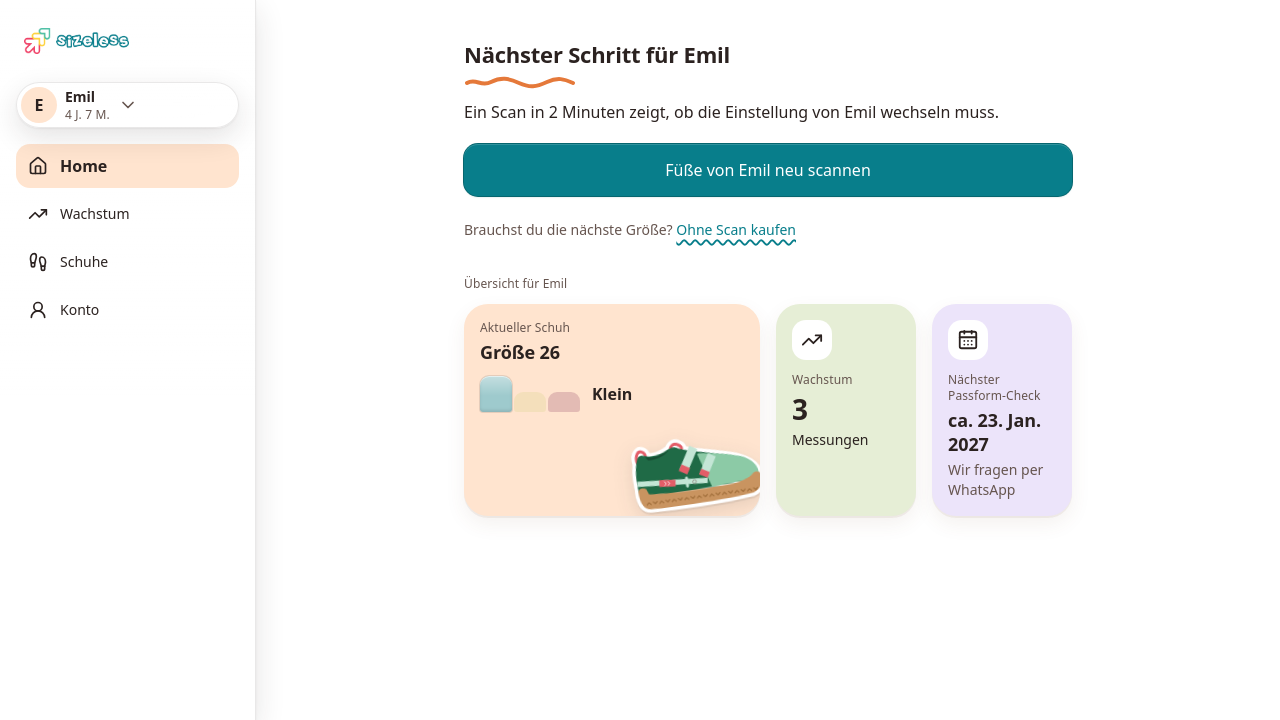
Test case: app frame › closes the kid switcher with Escape without changing the child
The width and height of the screenshot is (1280, 720).
Click the button with aria-label "Emil ausgewählt" at (128, 105), box [16,82,239,128]
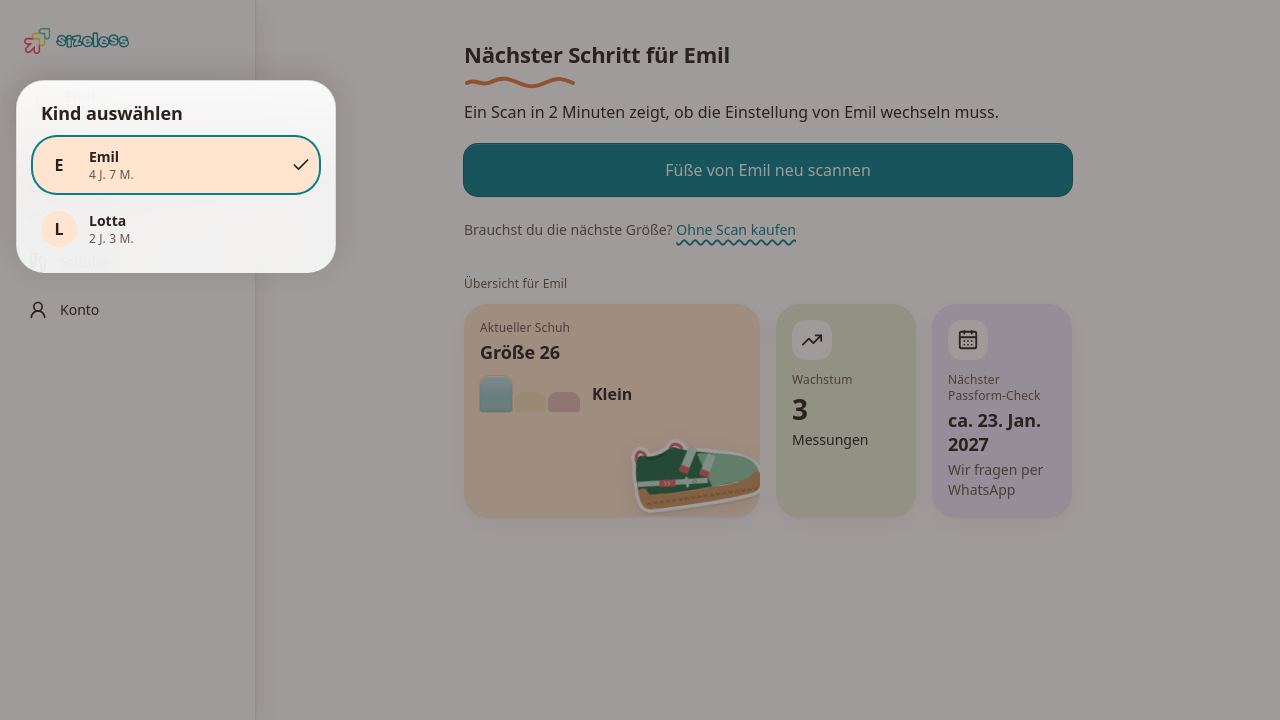
Press Escape
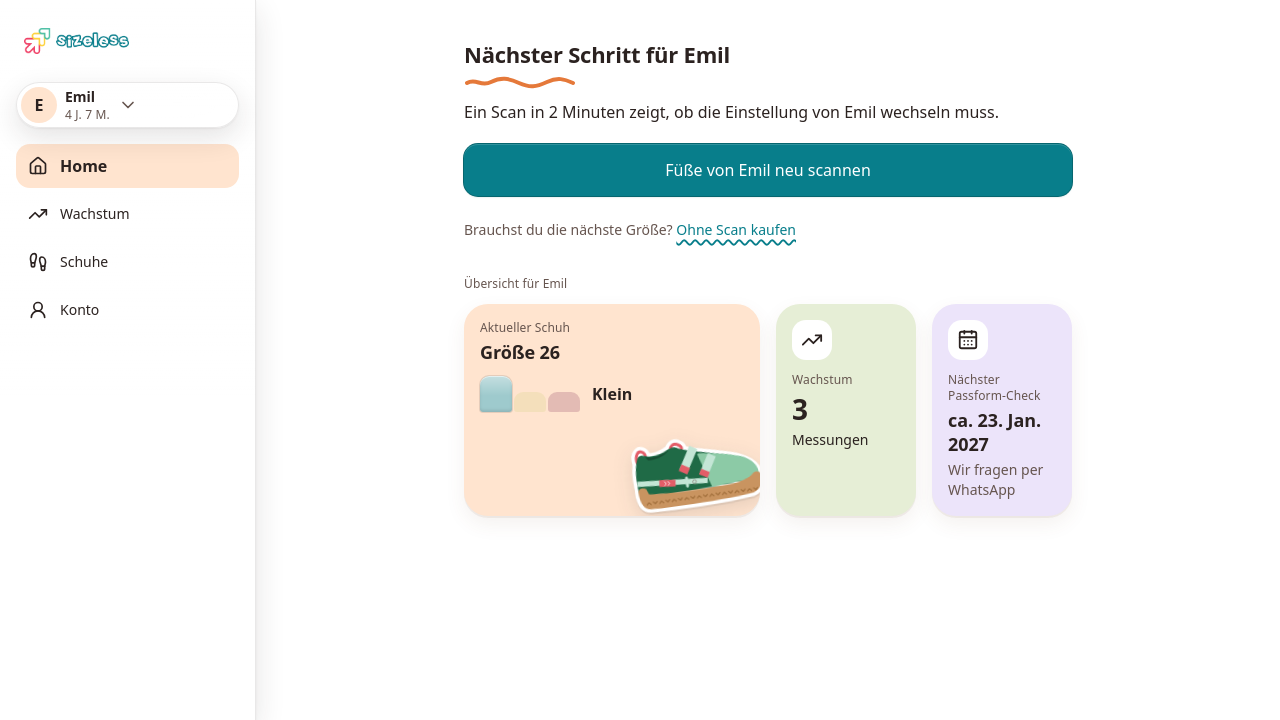
Check: the button with aria-label "Emil ausgewählt" is shown, box [16,82,239,128]
Check: the dialog is gone
